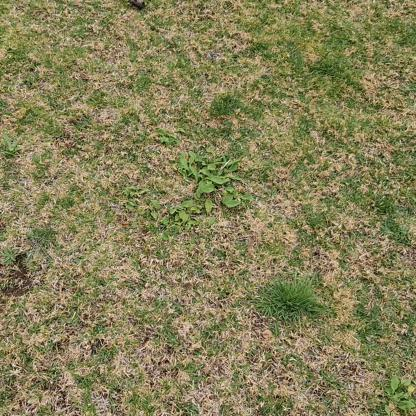Weeds: (126, 149, 254, 241), (384, 374, 415, 415), (0, 133, 22, 159), (155, 129, 186, 146), (0, 247, 19, 268)
